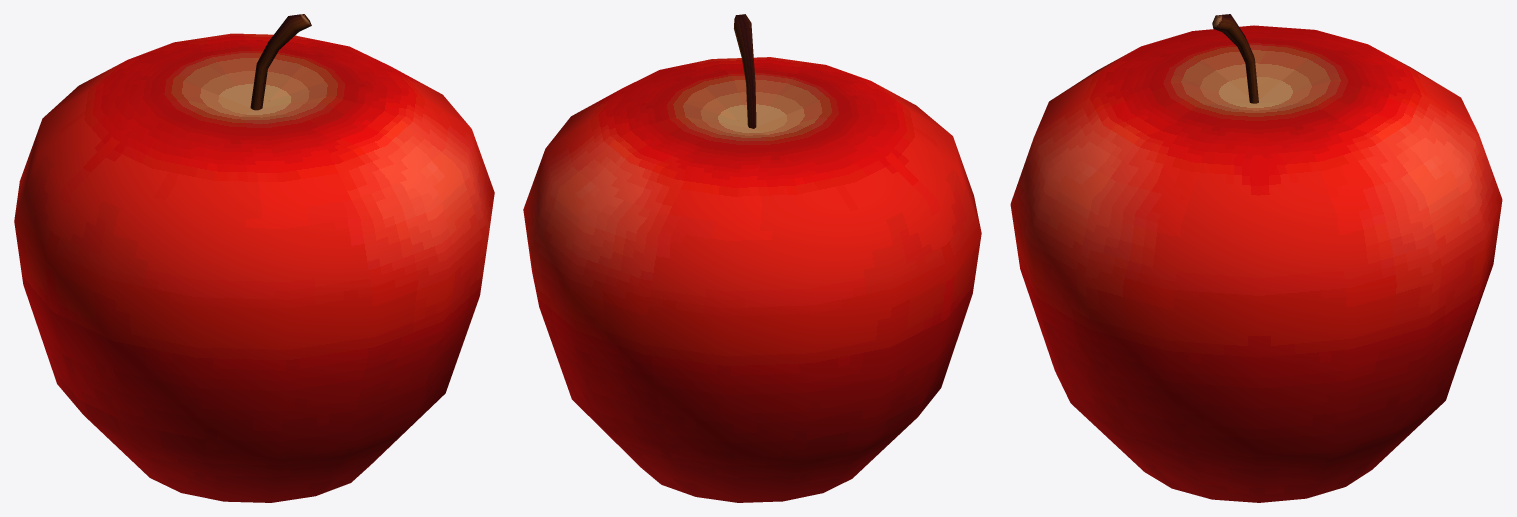
File: manzana.glb
3 views of the same model, side by side, from view 1: azimuth 30°, elevation 25°; view 2: azimuth 150°, elevation 25°; view 3: azimuth 270°, elevation 25° (orthographic). The views are drawn at different scales.
Parts seen in each view (by area): view 1: Inst3D25_RefRep.217; view 2: Inst3D25_RefRep.217; view 3: Inst3D25_RefRep.217.
Part boxes in pixels (left/top/right/bottom): Inst3D25_RefRep.217: left=14, top=14, right=494, bottom=502; Inst3D25_RefRep.217: left=523, top=14, right=981, bottom=502; Inst3D25_RefRep.217: left=1010, top=14, right=1502, bottom=502.
Bounding box in the file's own units: 5.08 × 5.31 × 5.08.
Materials: 1 (1 with a texture image).
